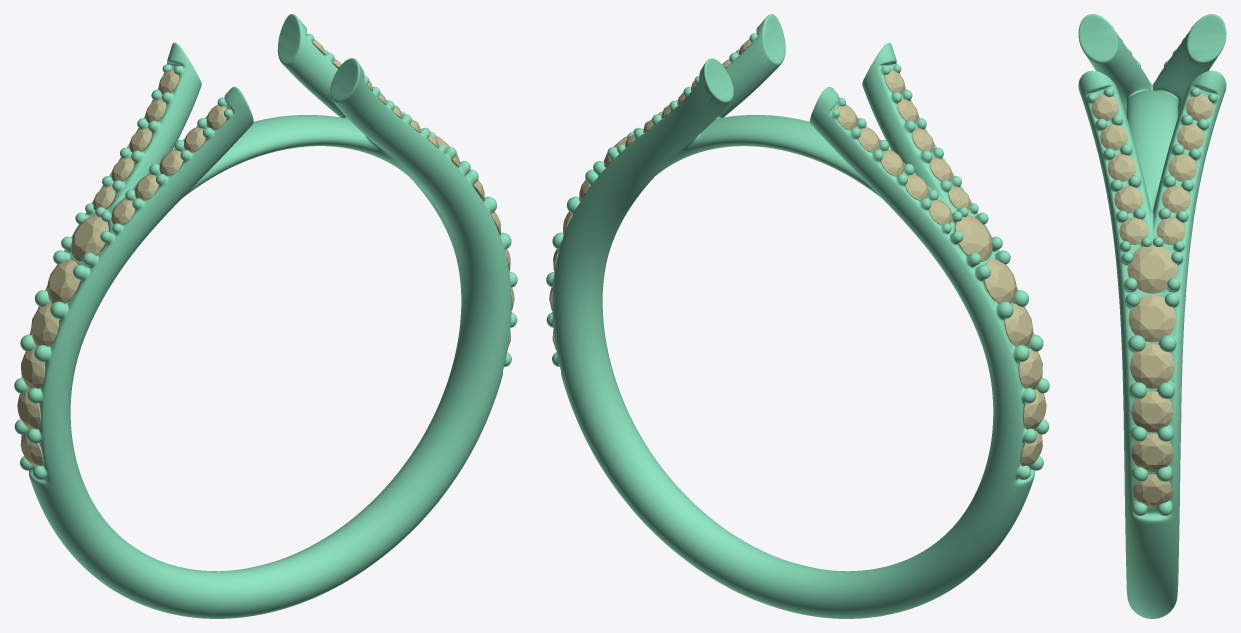
3 renders of one model, left to right at view 1: azimuth 30°, elevation 25°; view 2: azimuth 150°, elevation 25°; view 3: azimuth 270°, elevation 25°, orthographic.
Visible parts, largest first — view 1: Metal02, Diamond_Gem.031, Diamond_Gem.026, Diamond_Gem.022, Diamond_Gem.023; view 2: Metal02, Diamond_Gem.031, Diamond_Gem.026, Diamond_Gem.022, Diamond_Gem.023; view 3: Metal02, Diamond_Gem, Diamond_Gem.005, Diamond_Gem.009, Diamond_Gem.008, Diamond_Gem.007, Diamond_Gem.006, Diamond_Gem.015, Diamond_Gem.010, Diamond_Gem.014, Diamond_Gem.011, Diamond_Gem.013 (+5 smaller).
Part boxes in pixels (x1=…): Metal02: x1=14, y1=14, x2=517, y2=618; Diamond_Gem.031: x1=71, y1=215, x2=108, y2=261; Diamond_Gem.026: x1=47, y1=259, x2=80, y2=303; Diamond_Gem.022: x1=31, y1=303, x2=59, y2=346; Diamond_Gem.023: x1=21, y1=348, x2=45, y2=389; Metal02: x1=546, y1=14, x2=1049, y2=618; Diamond_Gem.031: x1=955, y1=215, x2=992, y2=261; Diamond_Gem.026: x1=983, y1=259, x2=1016, y2=303; Diamond_Gem.022: x1=1004, y1=303, x2=1032, y2=346; Diamond_Gem.023: x1=1018, y1=348, x2=1042, y2=389; Metal02: x1=1078, y1=14, x2=1226, y2=618; Diamond_Gem: x1=1127, y1=244, x2=1177, y2=293; Diamond_Gem.005: x1=1128, y1=295, x2=1175, y2=342; Diamond_Gem.009: x1=1130, y1=344, x2=1174, y2=388; Diamond_Gem.008: x1=1131, y1=391, x2=1173, y2=432; Diamond_Gem.007: x1=1131, y1=433, x2=1173, y2=471; Diamond_Gem.006: x1=1133, y1=474, x2=1172, y2=507; Diamond_Gem.015: x1=1168, y1=154, x2=1197, y2=181; Diamond_Gem.010: x1=1107, y1=154, x2=1136, y2=181; Diamond_Gem.014: x1=1161, y1=186, x2=1190, y2=213; Diamond_Gem.011: x1=1114, y1=186, x2=1142, y2=213; Diamond_Gem.013: x1=1156, y1=217, x2=1185, y2=244.
Size of the model in its own units: 21.12 by 23.1 by 5.63.
